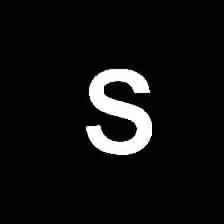LTR_S: (82, 60, 156, 159)
